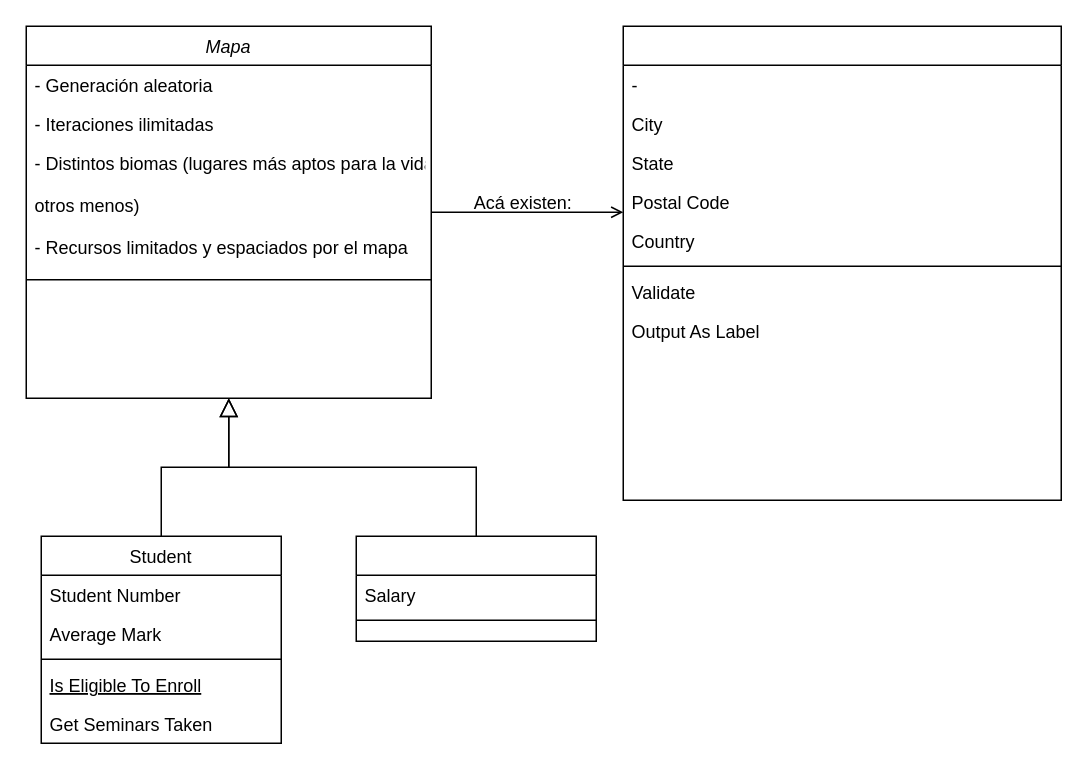
This 1088x774 diagram has some shape labels left out. The shapes that lost their labels are listed below. From the top down, each one's box as (x1, y1, x2, y2) in pixels, then its label:
(622, 25, 1061, 500): Entidades / Especies
(355, 535, 596, 641): Professor
